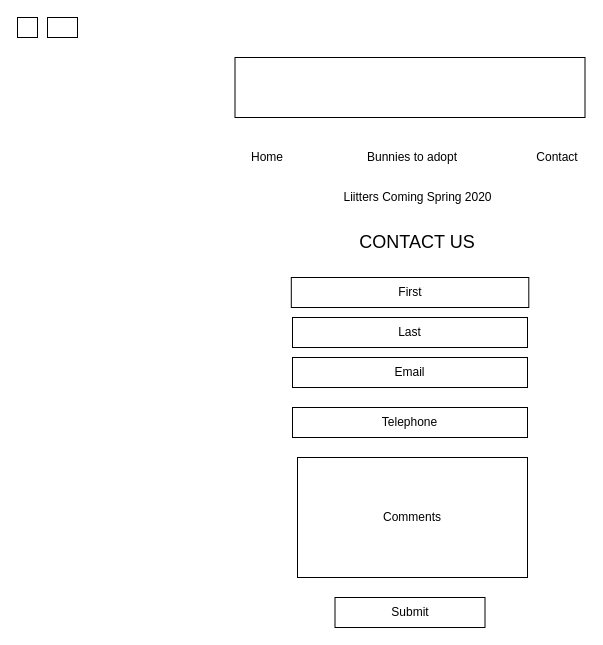
Image size: 603x645. Some labels were removed from this diagram. The shapes that lost their labels are listed below. From the top down, each one's centre as x and y in pixels, then its label:
At (x=27, y=27): "fb".
At (x=62, y=27): "Insta".
At (x=409, y=87): "Logo".
